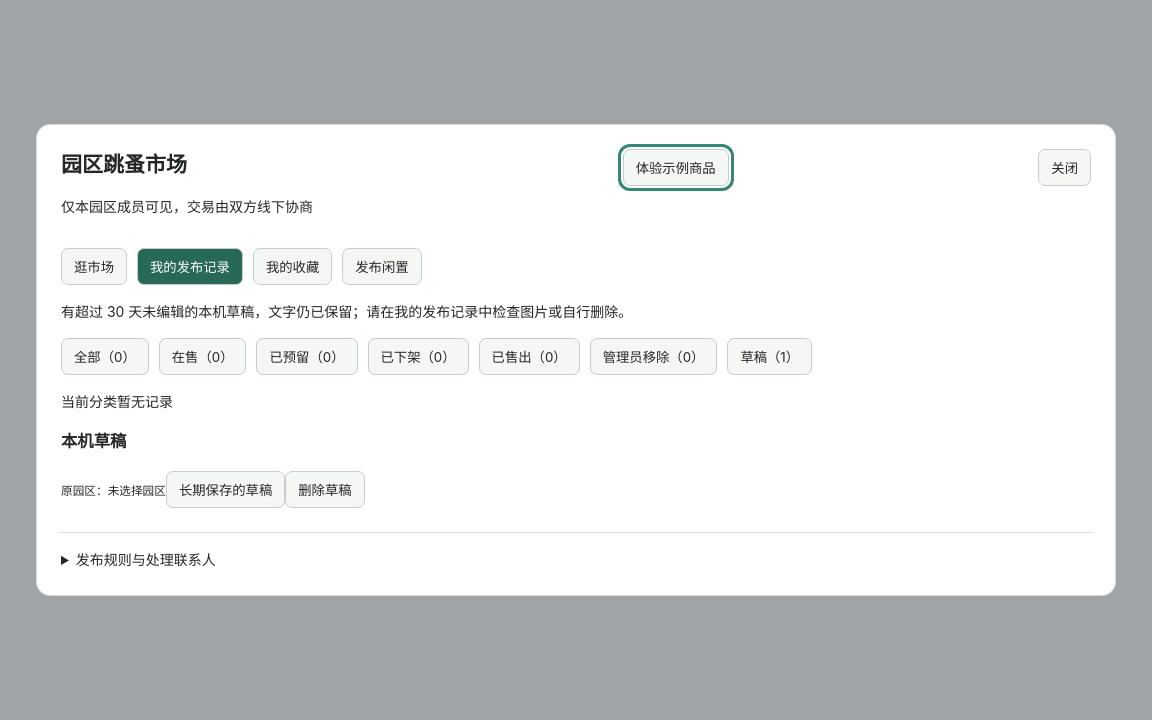
preserves expired draft text and identifies the failed photo with an independent retry
Click the button "长期保存的草稿" at {"x": 226, "y": 490}, box top-left (166, 471), bottom-right (285, 508)
(page scrolled)
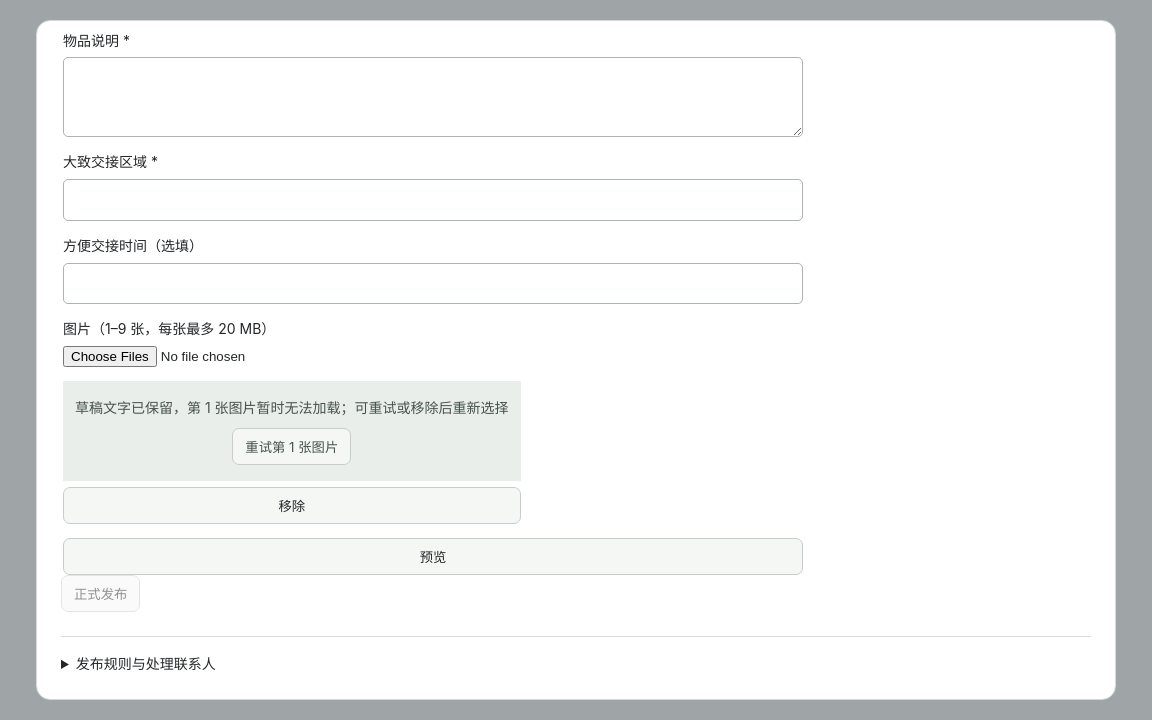
Now the text "草稿文字已保留，第 1 张图片暂时无法加载；可重试或移除后重新选择 重试第 1 张图片" is shown, box top-left (63, 381), bottom-right (521, 481)
Click the button "重试第 1 张图片" at {"x": 292, "y": 446}, box top-left (232, 428), bottom-right (351, 465)
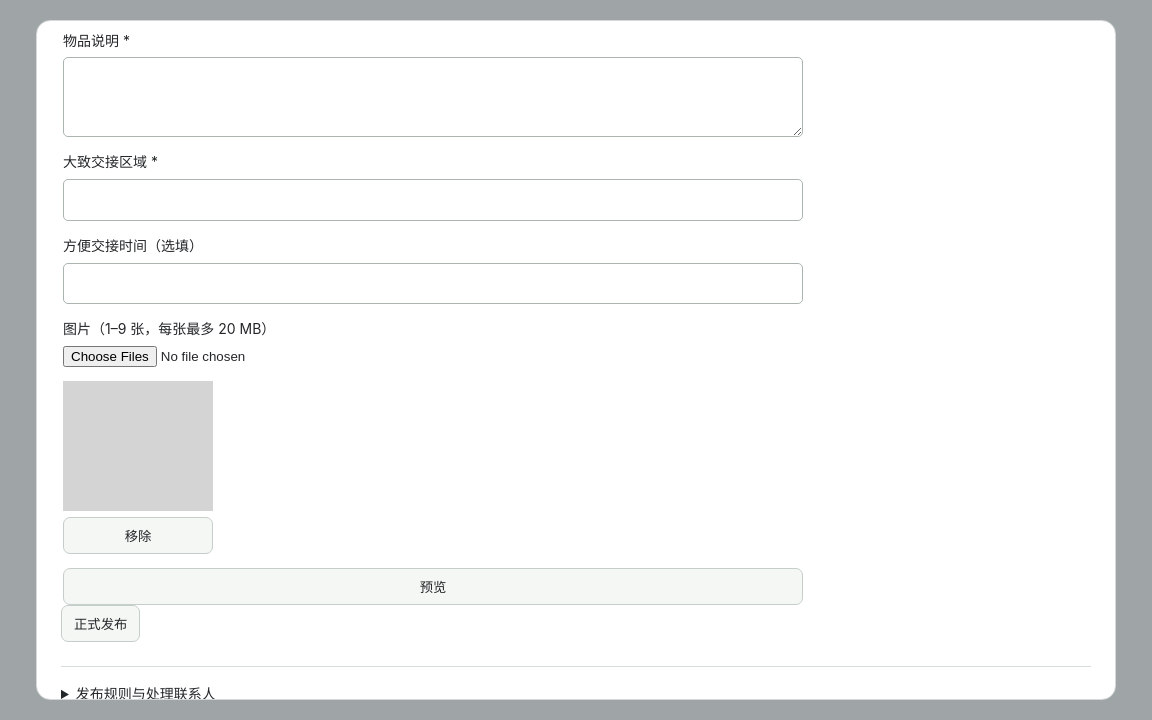
Now the text "第 1 张图片暂时无法加载" is gone
